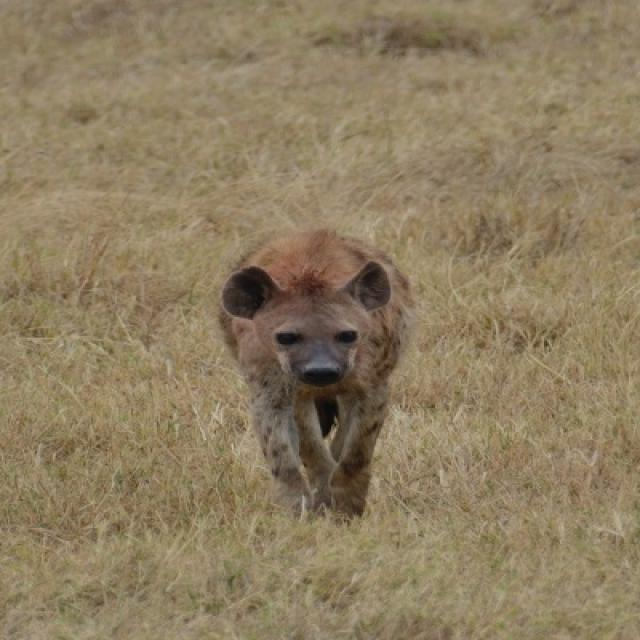hyena: (218, 230, 418, 522)
